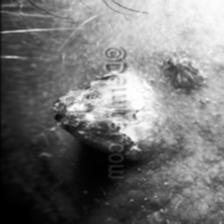Potentially Malignant Skin Tumors: (51, 78, 106, 150), (124, 73, 168, 163), (158, 43, 202, 88)
